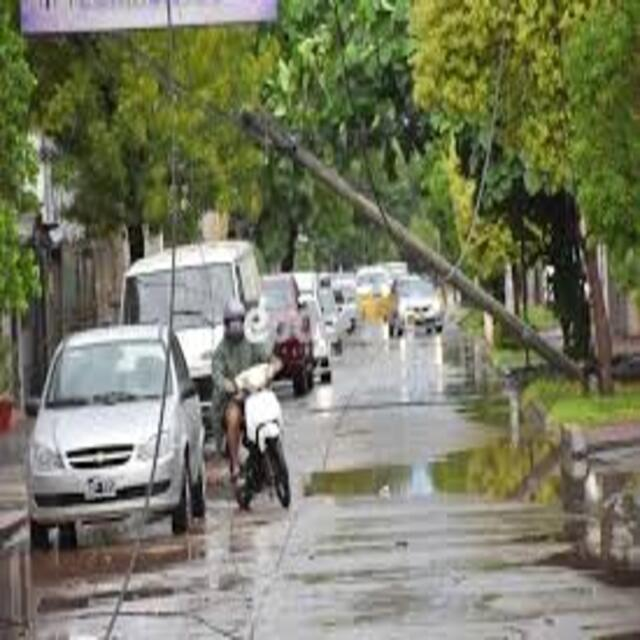Inclined Pole: (242, 100, 586, 382)
